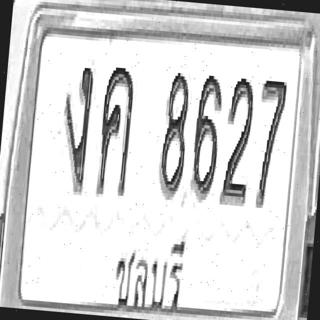A04: (95, 63, 136, 196)
A07: (57, 63, 94, 192)
N02: (218, 74, 256, 206)
N06: (188, 72, 224, 200)
N07: (251, 77, 288, 209)
N08: (156, 68, 192, 200)
P13: (109, 222, 194, 320)
